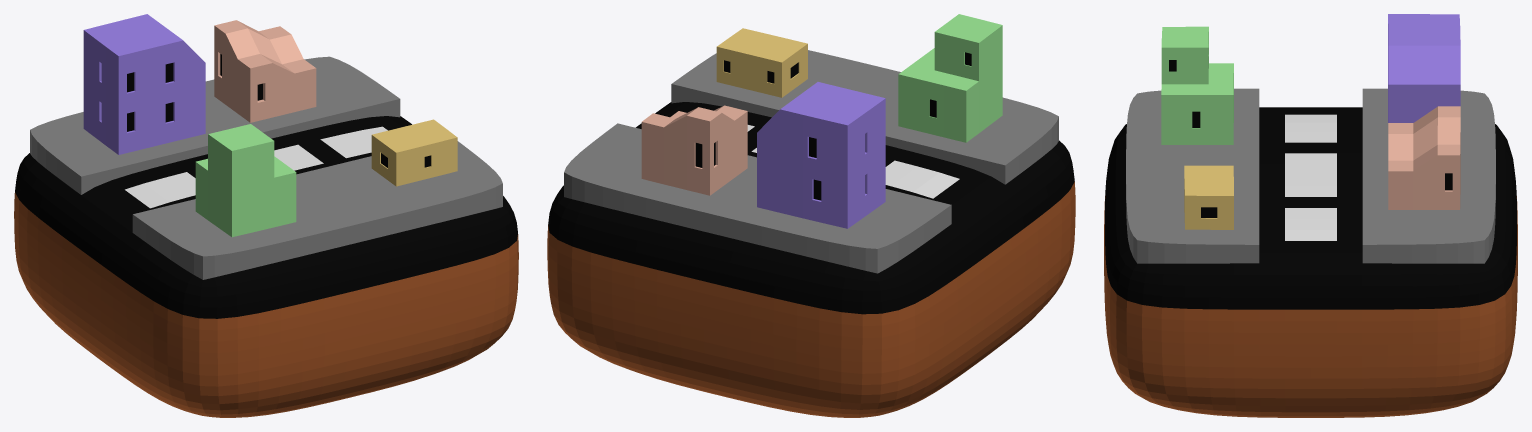
Rendered from platformDroitVille.fbx.
The picture shows the model from 3 angles, left to right: view 1: azimuth 30°, elevation 25°; view 2: azimuth 150°, elevation 25°; view 3: azimuth 270°, elevation 25°; orthographic projection. The views are drawn at different scales.
Visible parts, largest first — view 1: ville forward; view 2: ville forward; view 3: ville forward.
Part boxes in pixels (bbox=[...]): ville forward: bbox=[14, 14, 518, 417]; ville forward: bbox=[547, 14, 1075, 417]; ville forward: bbox=[1104, 14, 1517, 417].
Bounding box in the file's own units: 200 × 157 × 200.
